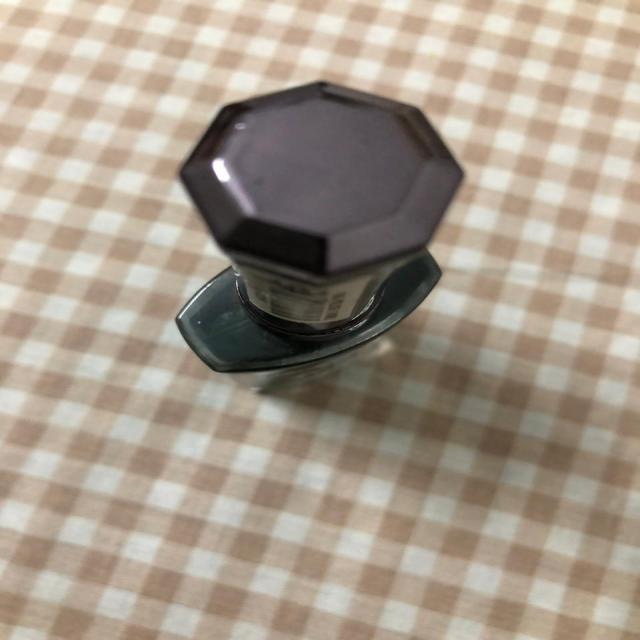perfume: (154, 69, 485, 404)
